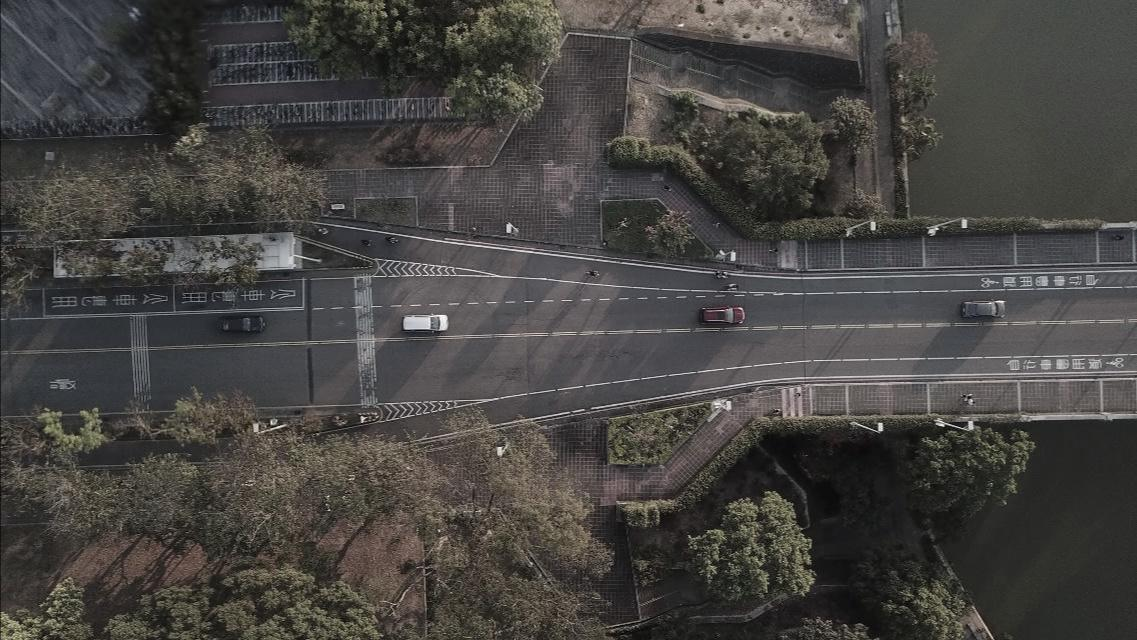vehicle: (402, 314, 448, 334), (698, 306, 744, 325), (960, 299, 1006, 318), (218, 316, 264, 334)
